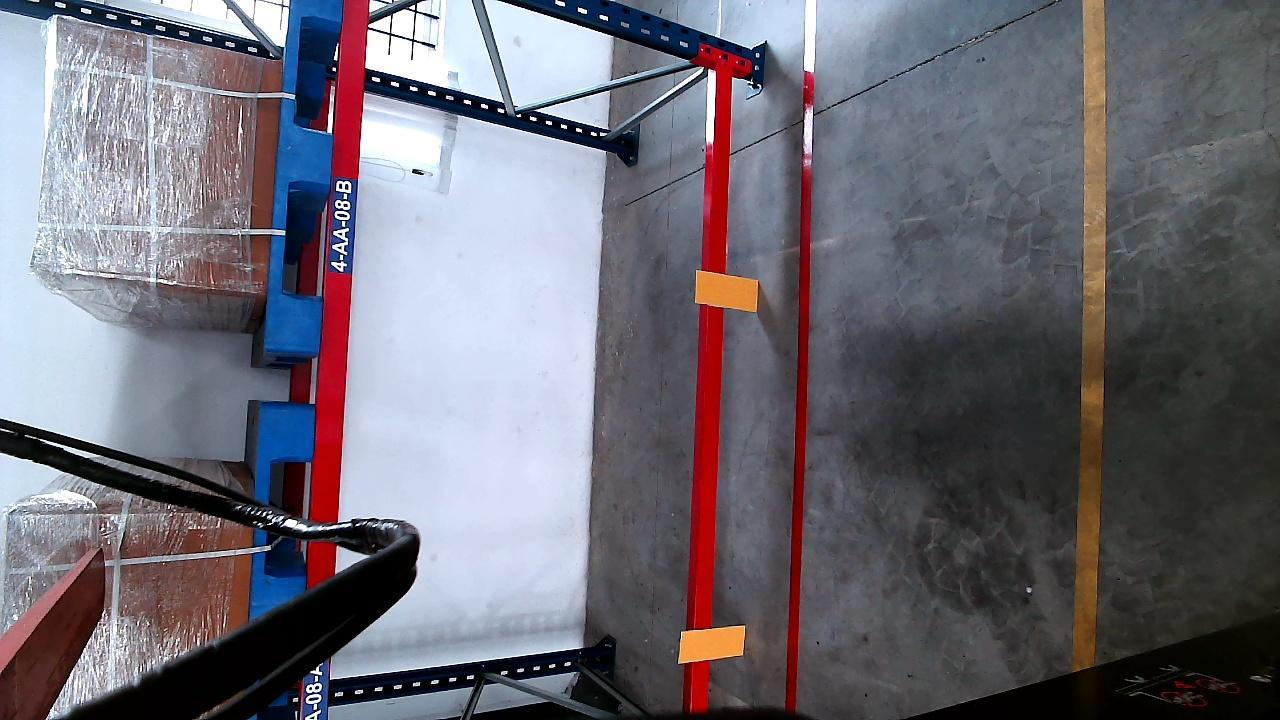red_line: (784, 1, 818, 708)
yellow_line: (1077, 0, 1102, 672)
